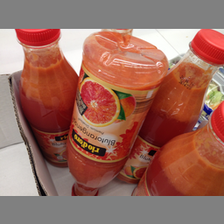juice: (66, 32, 169, 194), (121, 30, 222, 182), (14, 29, 79, 168)
